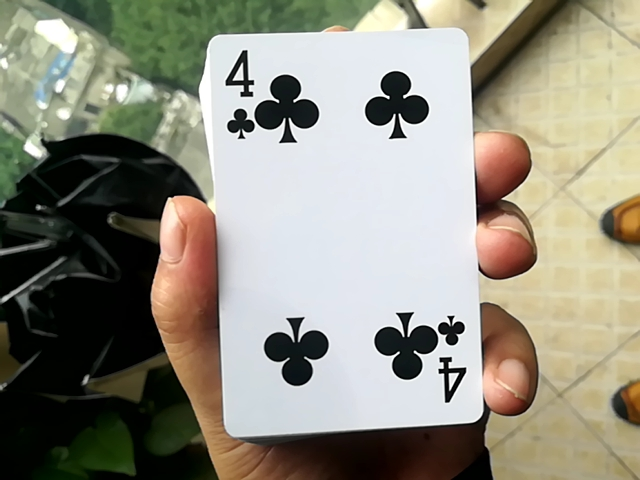mh 4: (186, 10, 489, 435)
